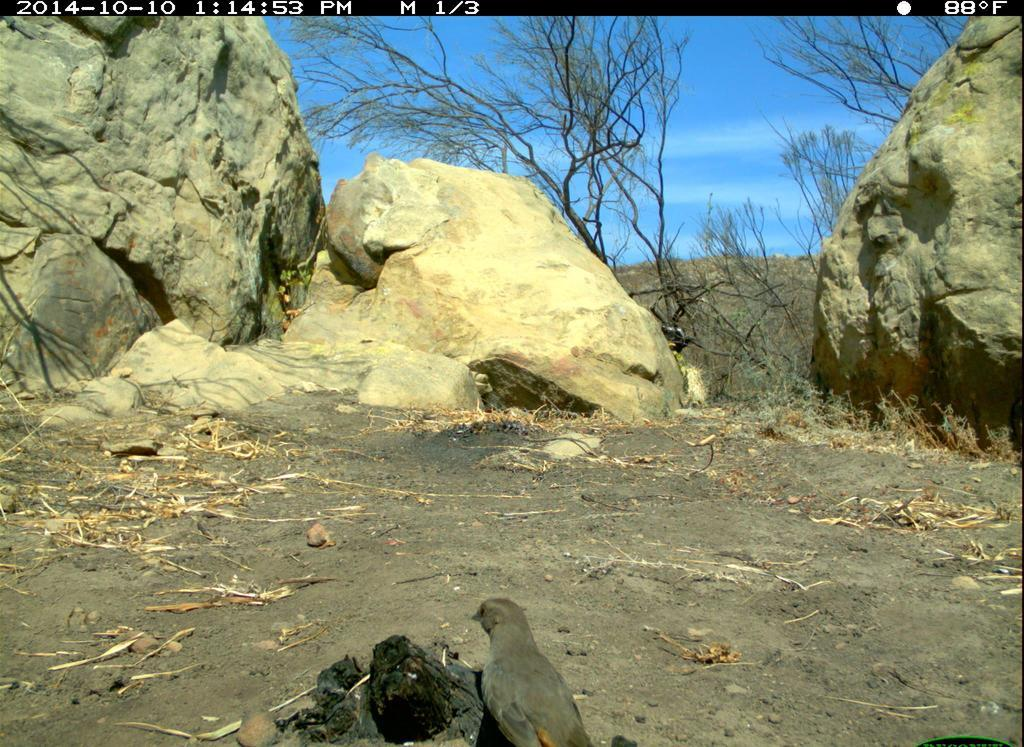bird: (464, 583, 616, 747)
